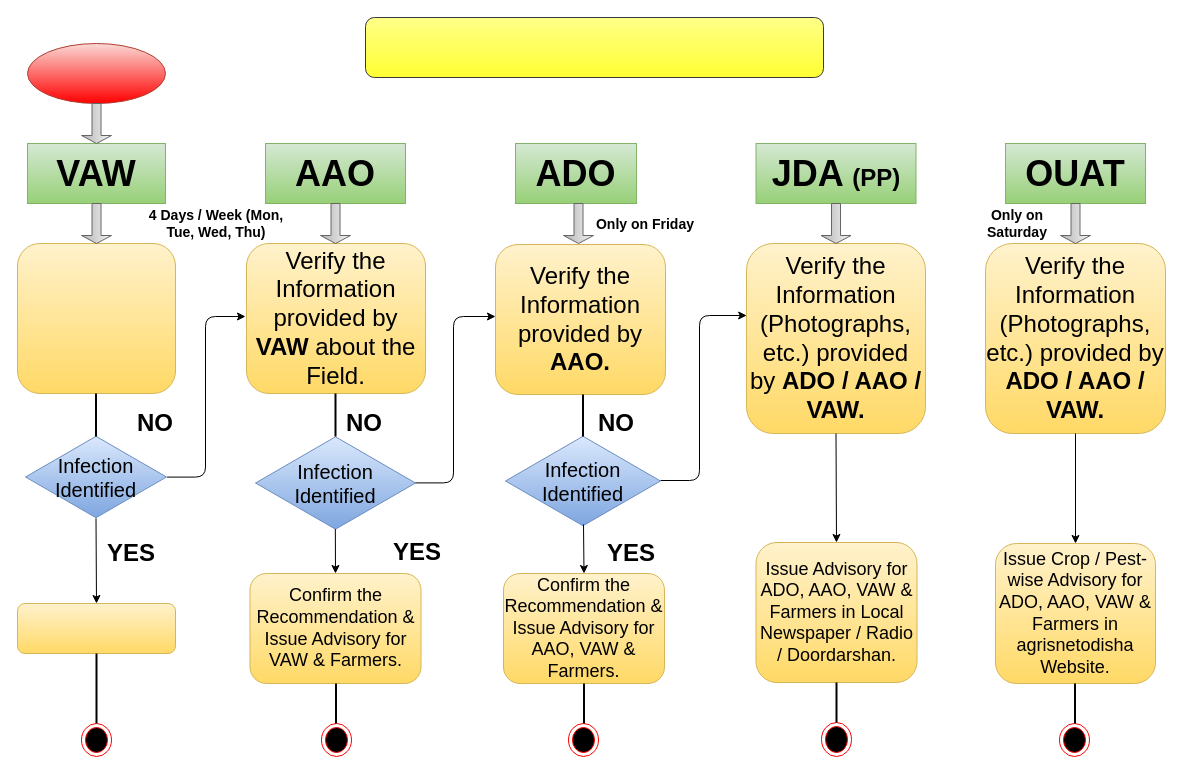
This 1183x774 diagram has some shape labels left out. The shapes that lost their labels are listed below. From the top down, each one's box as (x1, y1, x2, y2) in pixels, then its label:
(364, 16, 824, 78): Process Flow for E-Pest
(26, 42, 166, 104): START
(16, 242, 176, 394): Collect Information about Pest Infected Field.
(16, 602, 176, 654): Issue Advisory for Farmers.
